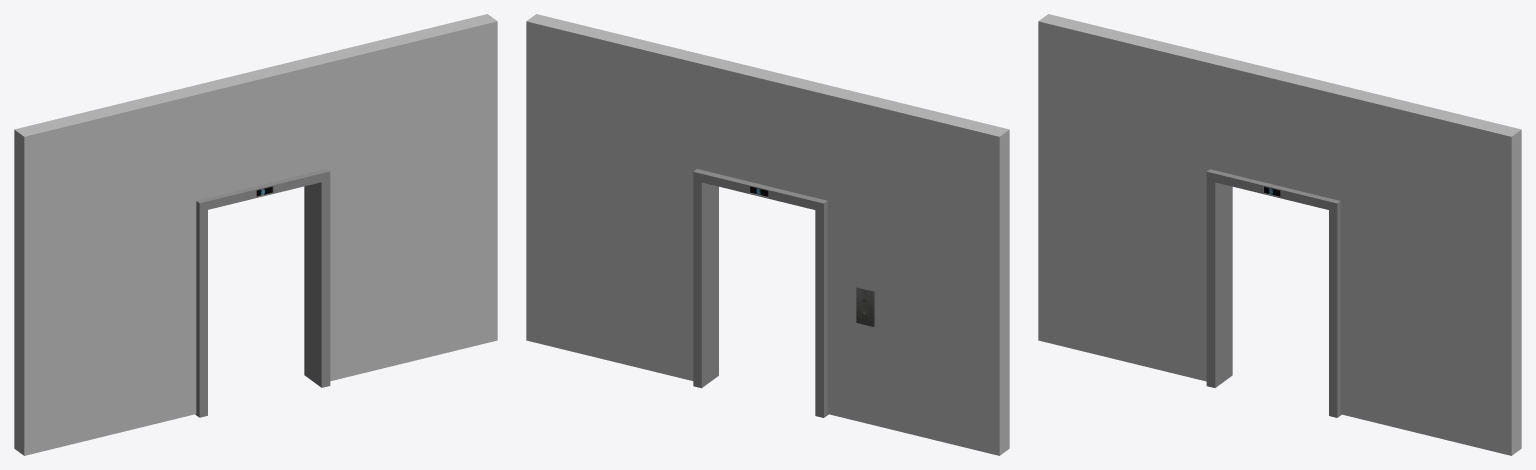
File: ParedeElevador(EscritórioCorr).glb
The picture shows the model from 3 angles, left to right: view 1: azimuth 30°, elevation 25°; view 2: azimuth 150°, elevation 25°; view 3: azimuth 330°, elevation 25°; orthographic projection.
Visible parts, largest first — view 1: OfficeElevatorWall-col, ElevatorFrame3-col; view 2: OfficeElevatorWall-col, ElevatorFrame3-col, Button.004; view 3: OfficeElevatorWall-col, ElevatorFrame3-col.
Part boxes in pixels (x1,y1,x2,y2): OfficeElevatorWall-col: (14, 14, 497, 455); ElevatorFrame3-col: (195, 169, 330, 417); OfficeElevatorWall-col: (526, 14, 1009, 455); ElevatorFrame3-col: (693, 169, 828, 417); Button.004: (856, 286, 874, 326); OfficeElevatorWall-col: (1038, 14, 1521, 455); ElevatorFrame3-col: (1206, 169, 1341, 417).
Size of the model in its own units: 5.43 by 3.51 by 0.3449.
4 materials, 2 textured.
